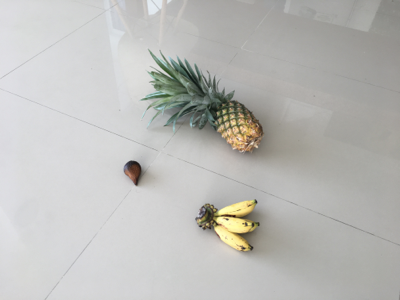banana: (196, 199, 261, 253)
pineapple: (138, 48, 264, 154)
snake fruit: (123, 160, 143, 188)
